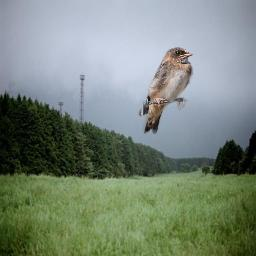Swallow: (138, 46, 194, 134)
